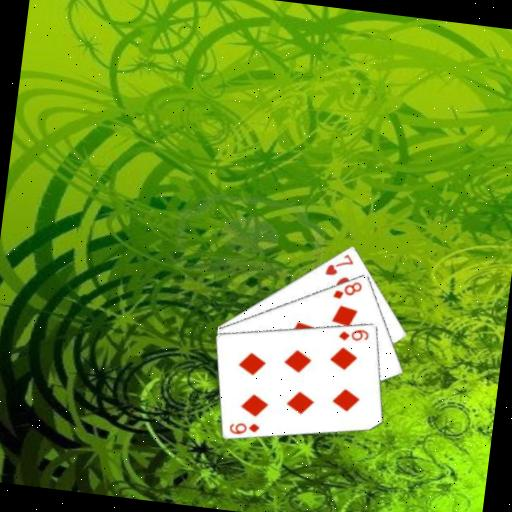6D: (226, 417, 262, 439), (335, 324, 371, 345)
7H: (321, 248, 356, 279)
8D: (329, 276, 364, 303)
